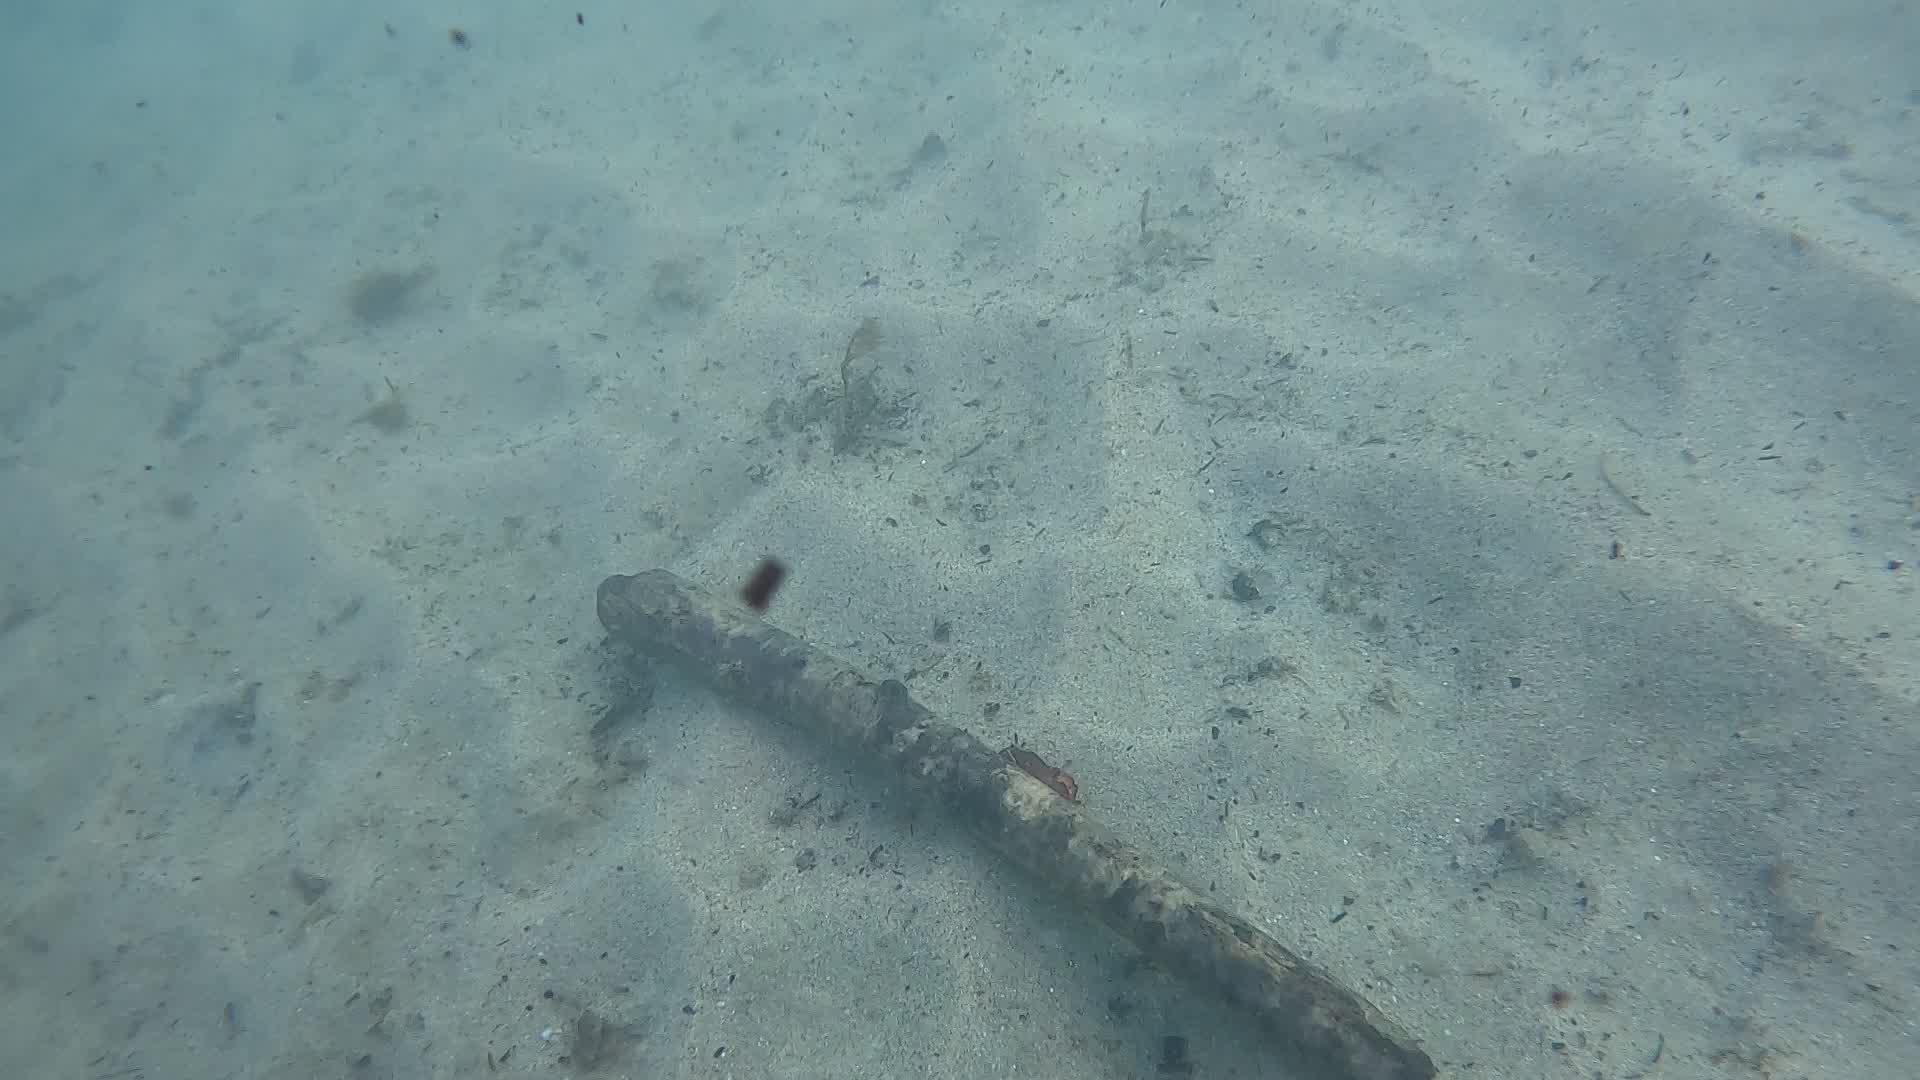wood: (589, 572, 1436, 1080)
